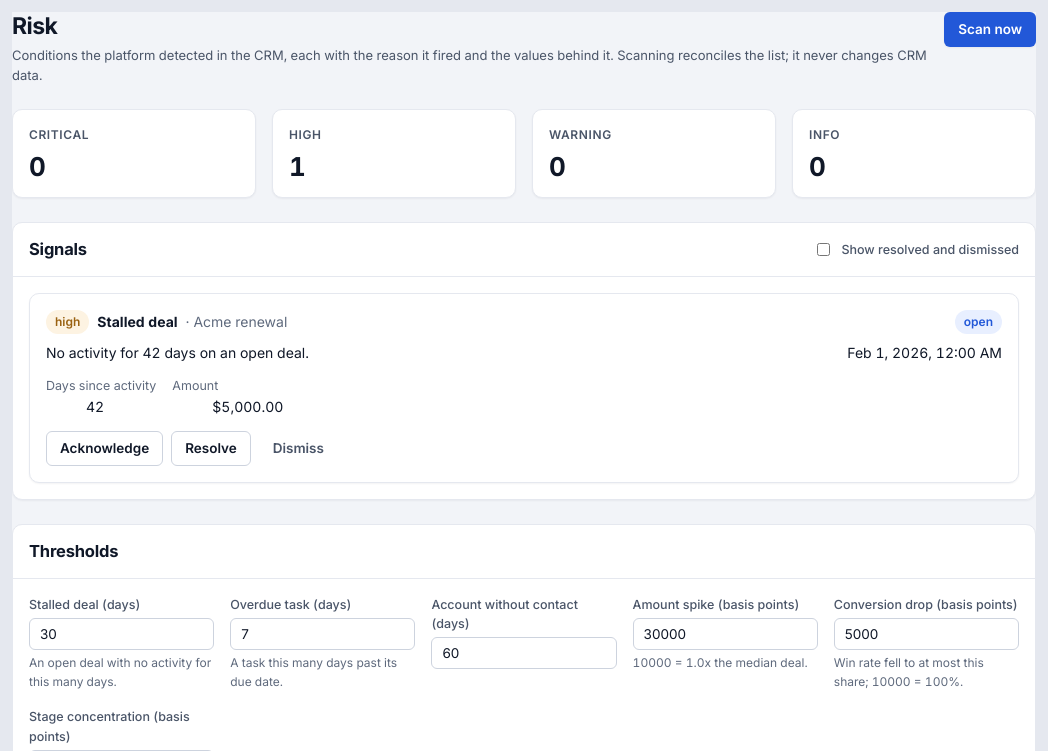
Test: RiskPage › runs a scan and reports what changed
The width and height of the screenshot is (1048, 751).
Click the button "Scan now" at (990, 29), box [944, 12, 1036, 47]
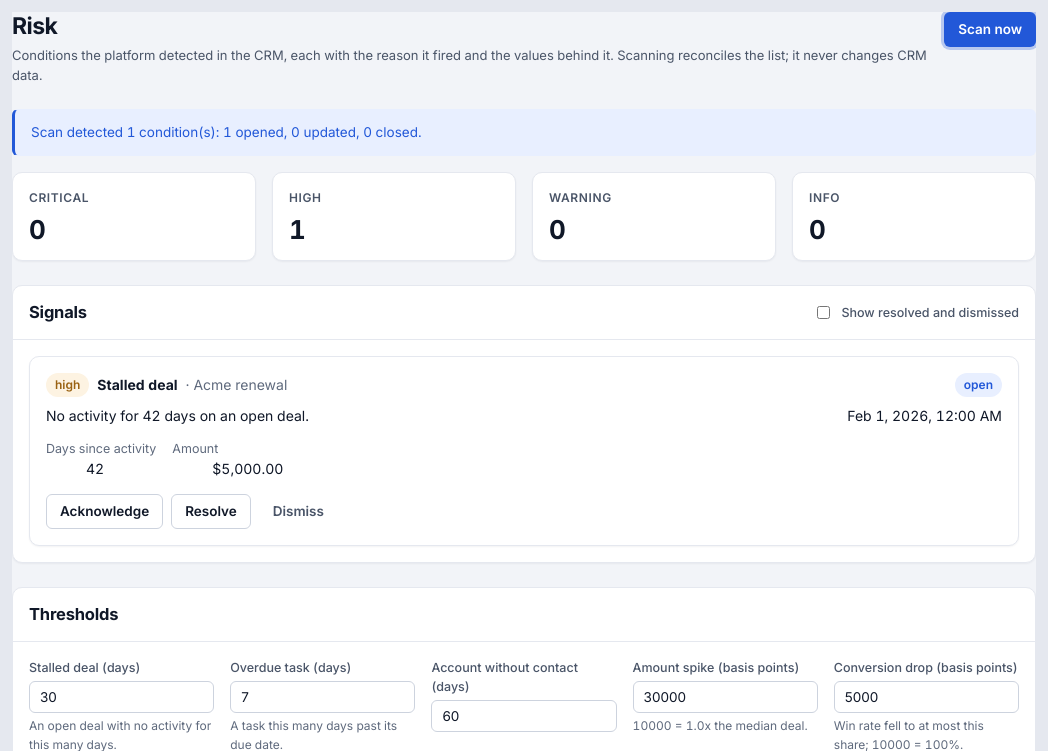
Check: the text "Scan detected 1 condition(s): 1 opened, 0 updated, 0 closed." is shown, box [31, 124, 422, 140]
